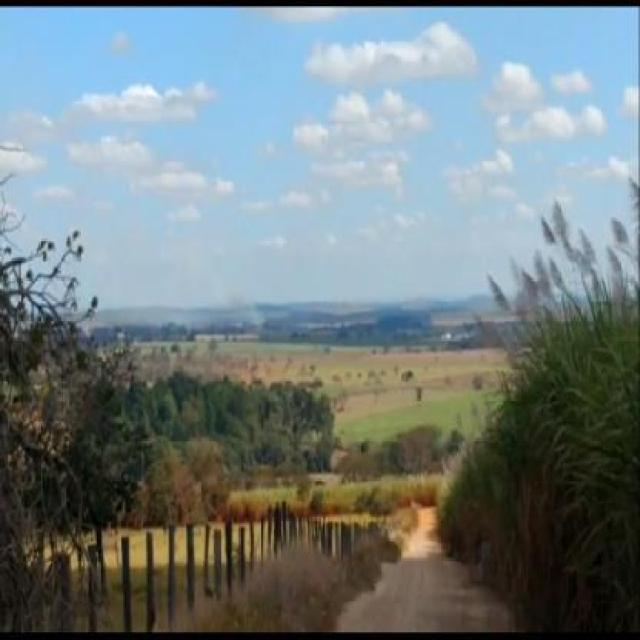Fire: (216, 284, 269, 326)
